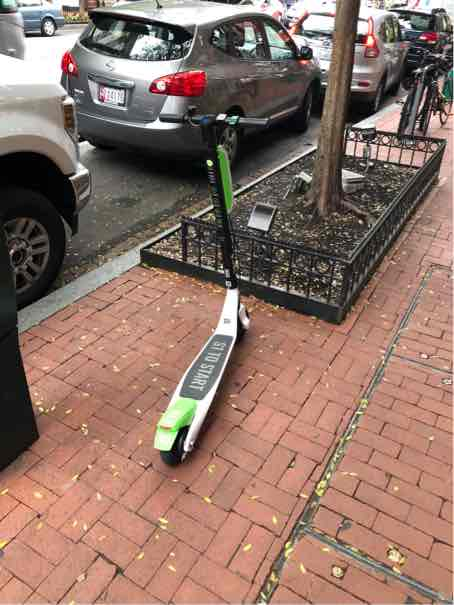scooter: (127, 93, 287, 485)
